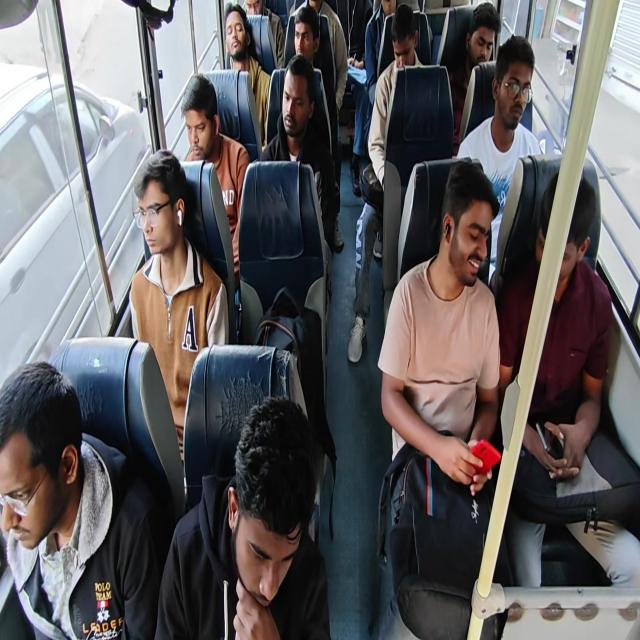person: (0, 334, 78, 640), (231, 410, 316, 640), (428, 169, 502, 305), (132, 150, 190, 305), (527, 174, 575, 307), (181, 67, 230, 189), (497, 50, 545, 150), (279, 64, 321, 165), (328, 0, 376, 75), (220, 8, 262, 82), (467, 1, 512, 66), (385, 9, 418, 82), (289, 16, 320, 76), (372, 0, 405, 34), (241, 0, 278, 29), (307, 0, 330, 26)
